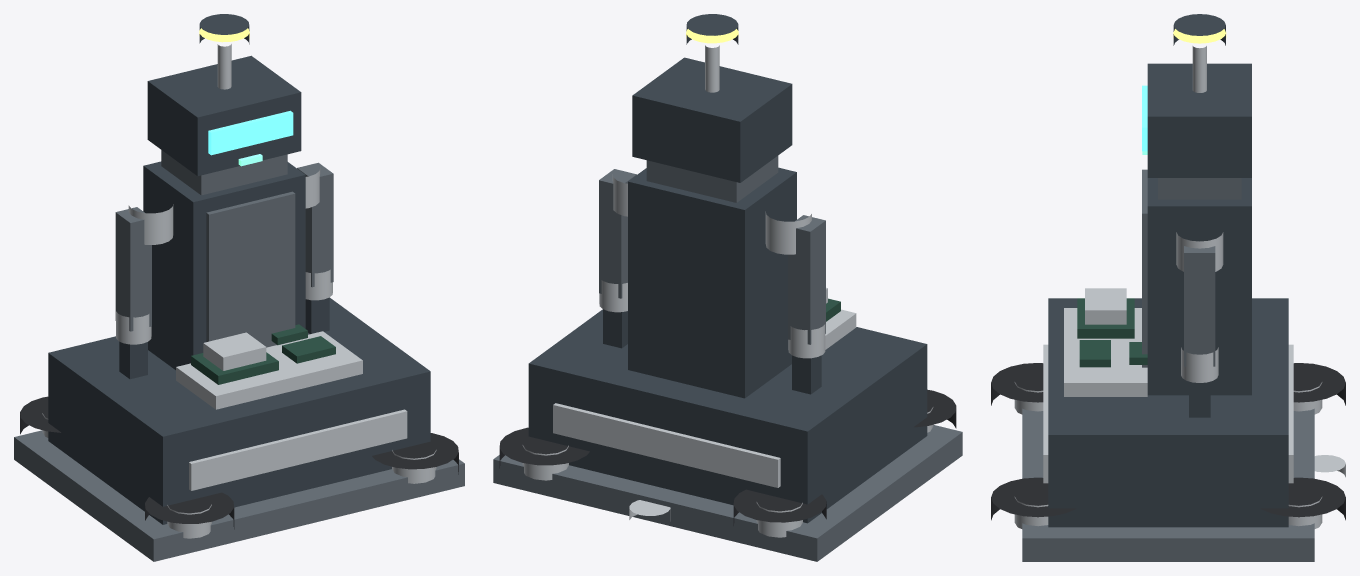
Rendered from sample-robot.glb.
3 views of the same model, side by side, from view 1: azimuth 30°, elevation 25°; view 2: azimuth 150°, elevation 25°; view 3: azimuth 270°, elevation 25° (orthographic). The views are drawn at different scales.
Visible parts, largest first — view 1: Chassis, BasePlate, TorsoColumn, TorsoRib, HeadShell, ChassisTrim, ComputeTray, UpperArm_L, UpperArm_R, HeadBase, Visor, Wheel_0F (+14 smaller); view 2: Chassis, TorsoColumn, BasePlate, HeadShell, ChassisTrimR, UpperArm_L, UpperArm_R, HeadBase, Wheel_0R, Wheel_1R, Shoulder_L, ForeArm_L (+9 smaller); view 3: Chassis, TorsoColumn, BasePlate, HeadShell, ComputeTray, UpperArm_R, Wheel_1R, Wheel_1F, HeadBase, Wheel_0R, Wheel_0F, Heatsink (+12 smaller).
Boxes of the visible parts, x1,y1,x2,y2 form: Chassis: (48, 298, 430, 524); BasePlate: (14, 430, 464, 561); TorsoColumn: (143, 161, 305, 369); TorsoRib: (206, 191, 295, 347); HeadShell: (147, 55, 301, 176); ChassisTrim: (189, 409, 407, 490); ComputeTray: (176, 331, 362, 409); UpperArm_L: (115, 207, 151, 331); UpperArm_R: (297, 162, 333, 287); HeadBase: (161, 150, 287, 195); Visor: (208, 110, 293, 155); Wheel_0F: (145, 492, 234, 529); Chassis: (528, 309, 927, 523); TorsoColumn: (628, 167, 796, 398); BasePlate: (493, 425, 962, 561); HeadShell: (632, 57, 792, 182); ChassisTrimR: (553, 403, 780, 487); UpperArm_L: (788, 215, 825, 344); UpperArm_R: (599, 169, 636, 298); HeadBase: (646, 155, 778, 202); Wheel_0R: (733, 489, 826, 525); Wheel_1R: (499, 427, 589, 468); Shoulder_L: (765, 211, 811, 254); ForeArm_L: (792, 355, 821, 394); Chassis: (1048, 298, 1288, 527); TorsoColumn: (1147, 178, 1251, 395); BasePlate: (1022, 408, 1314, 561); HeadShell: (1147, 63, 1251, 177); ComputeTray: (1064, 308, 1147, 396); UpperArm_R: (1184, 246, 1215, 366); Wheel_1R: (1260, 477, 1345, 520); Wheel_1F: (991, 477, 1076, 520); HeadBase: (1158, 178, 1241, 199); Wheel_0R: (1293, 363, 1345, 405); Wheel_0F: (991, 363, 1043, 405); Heatsink: (1085, 288, 1126, 324).
Size of the model in its own units: 0.72 by 0.9675 by 0.68.
